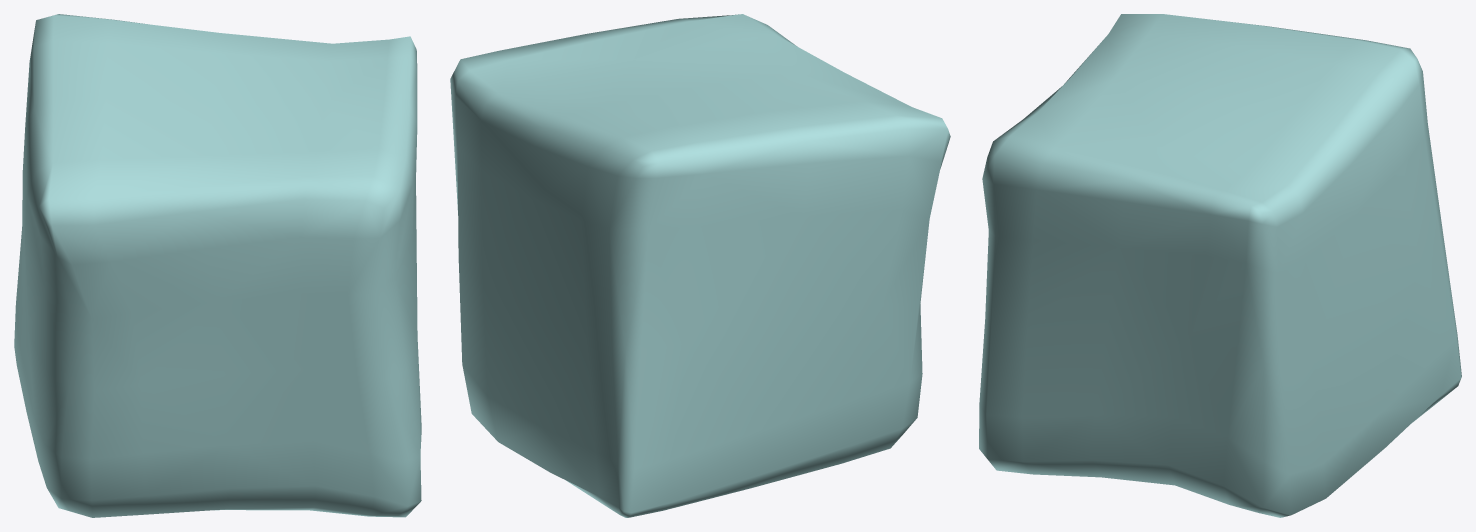
The model's file is Train_main_frozen.fbx.
3 views of the same model, side by side, from view 1: azimuth 30°, elevation 25°; view 2: azimuth 150°, elevation 25°; view 3: azimuth 270°, elevation 25° (orthographic). The views are drawn at different scales.
Visible parts, largest first — view 1: TrainCube; view 2: TrainCube; view 3: TrainCube.
Boxes of the visible parts, left/top/right/bottom form: TrainCube: left=14, top=14, right=421, bottom=517; TrainCube: left=450, top=14, right=950, bottom=517; TrainCube: left=979, top=14, right=1461, bottom=517.
Size of the model in its own units: 52.97 by 43.91 by 52.96.
